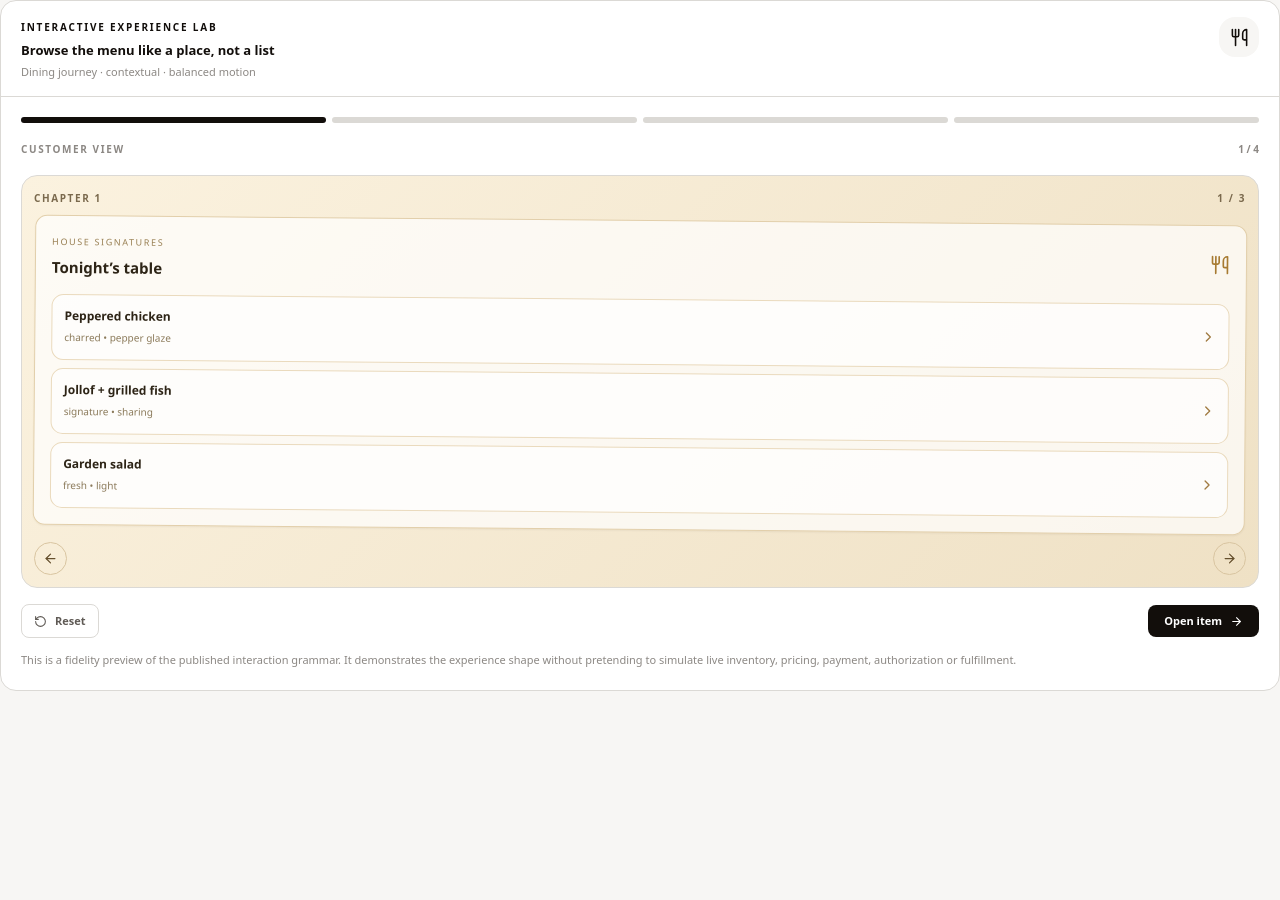
it: ExperienceSimulator › walks the draft through browse, focus, detail and commit stages
Click the button "Peppered chicken charred • pepper glaze": (118, 316) [51,294,1230,370]
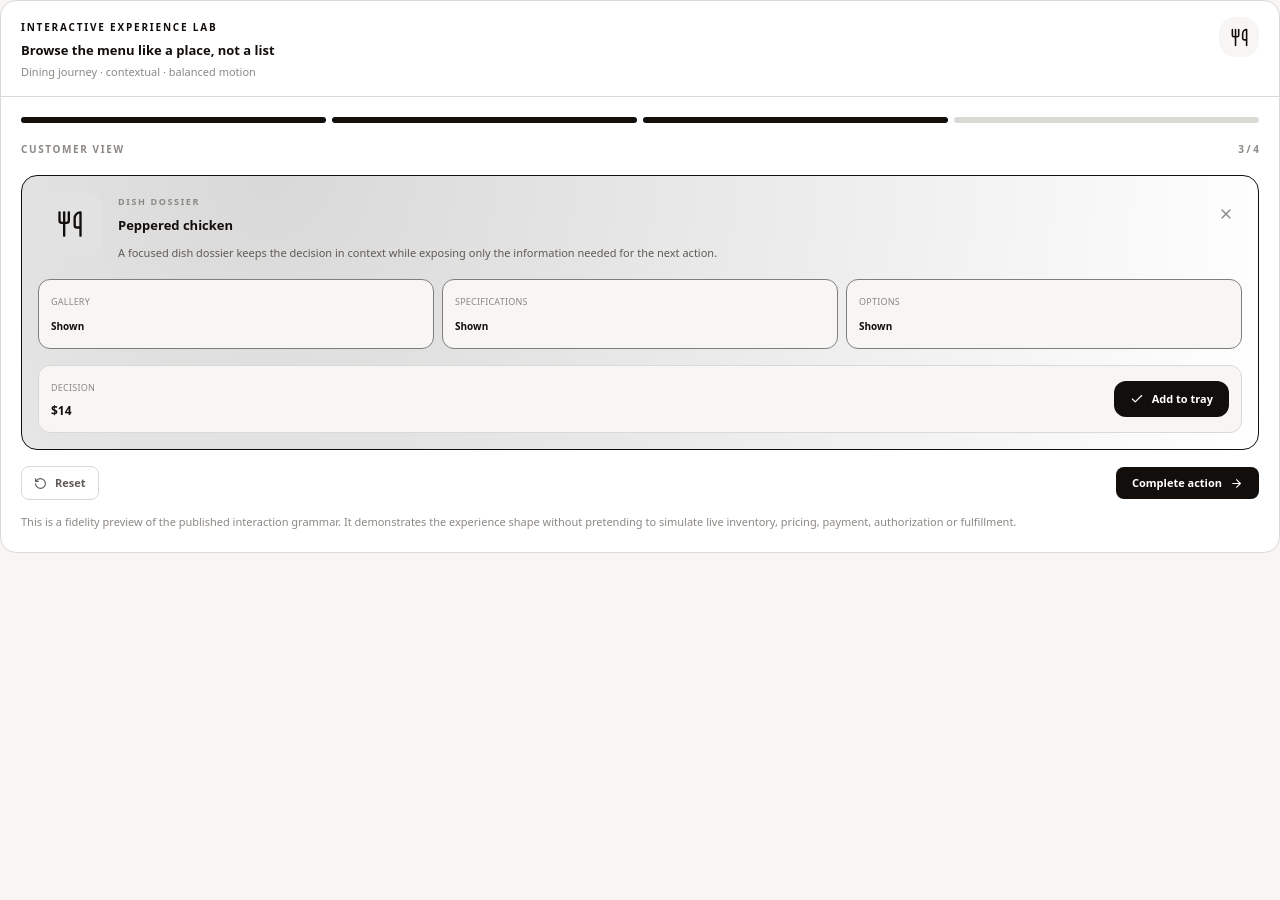
Result: the heading "Peppered chicken" is shown at [118,216,233,235]
Click the tab named "Preview Add to tray": (1106, 120) [954,117,1259,123]
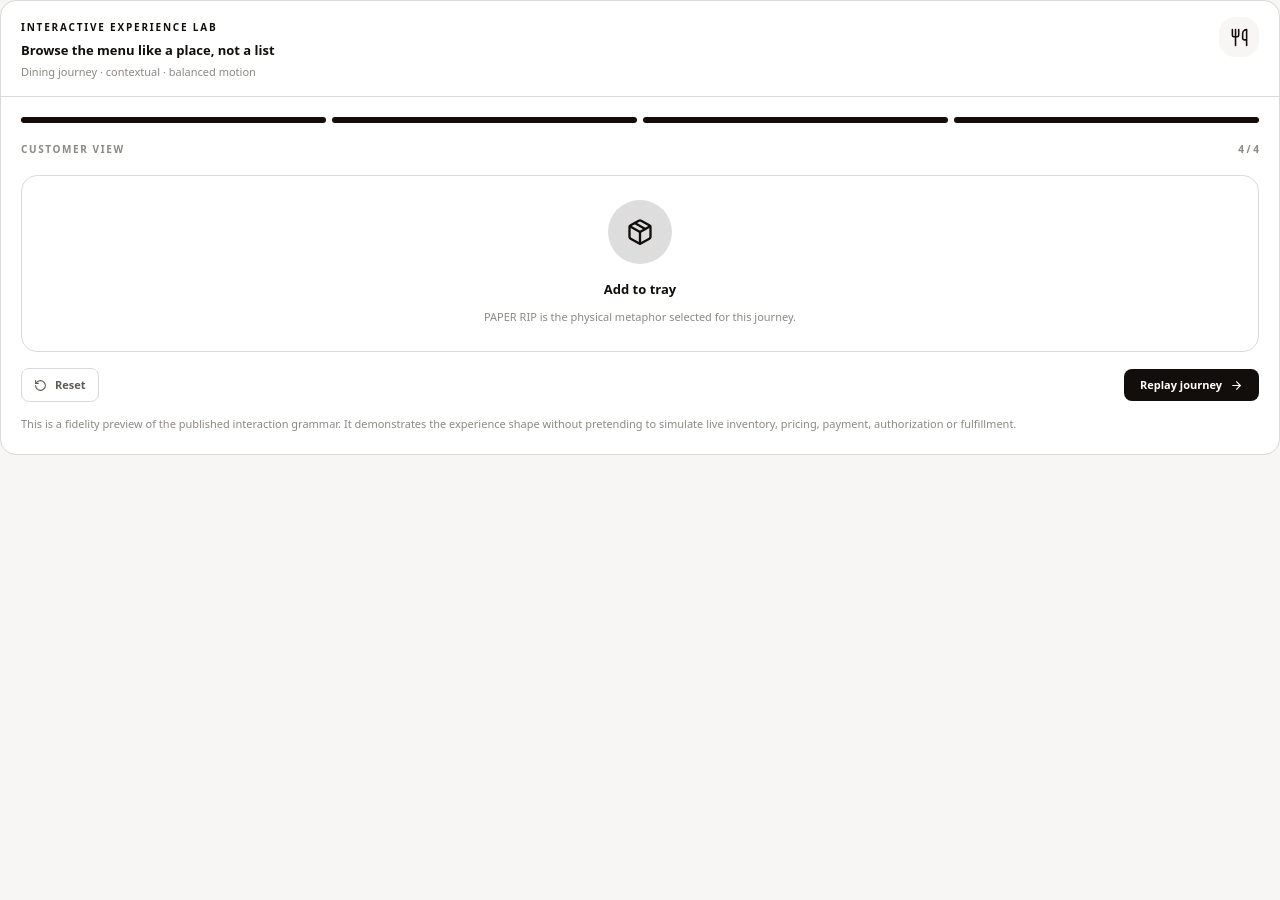
Result: the heading "Add to tray" is shown at [604,280,676,298]
Result: the text "PAPER RIP" is shown at [484,309,796,324]
